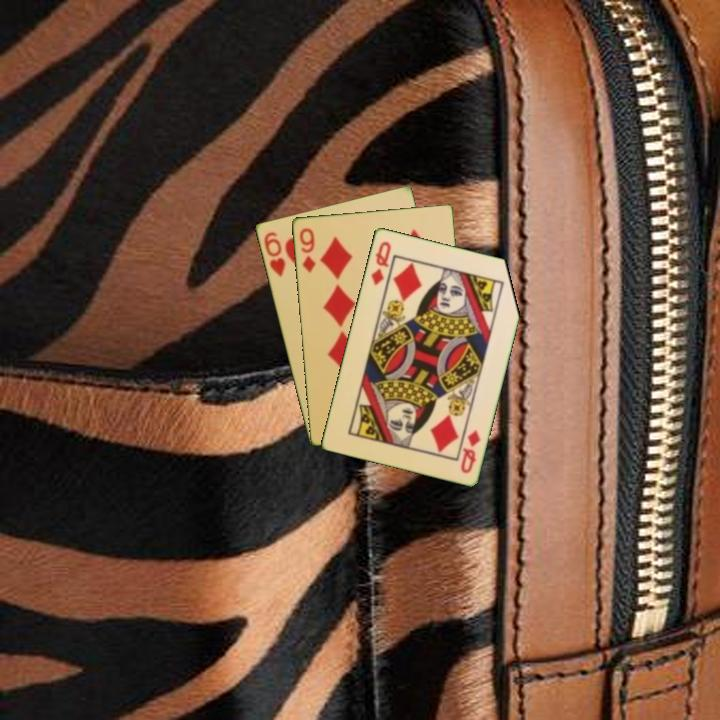6h: (260, 228, 288, 280)
9d: (296, 224, 318, 275)
Qd: (367, 237, 394, 288), (457, 426, 483, 476)
